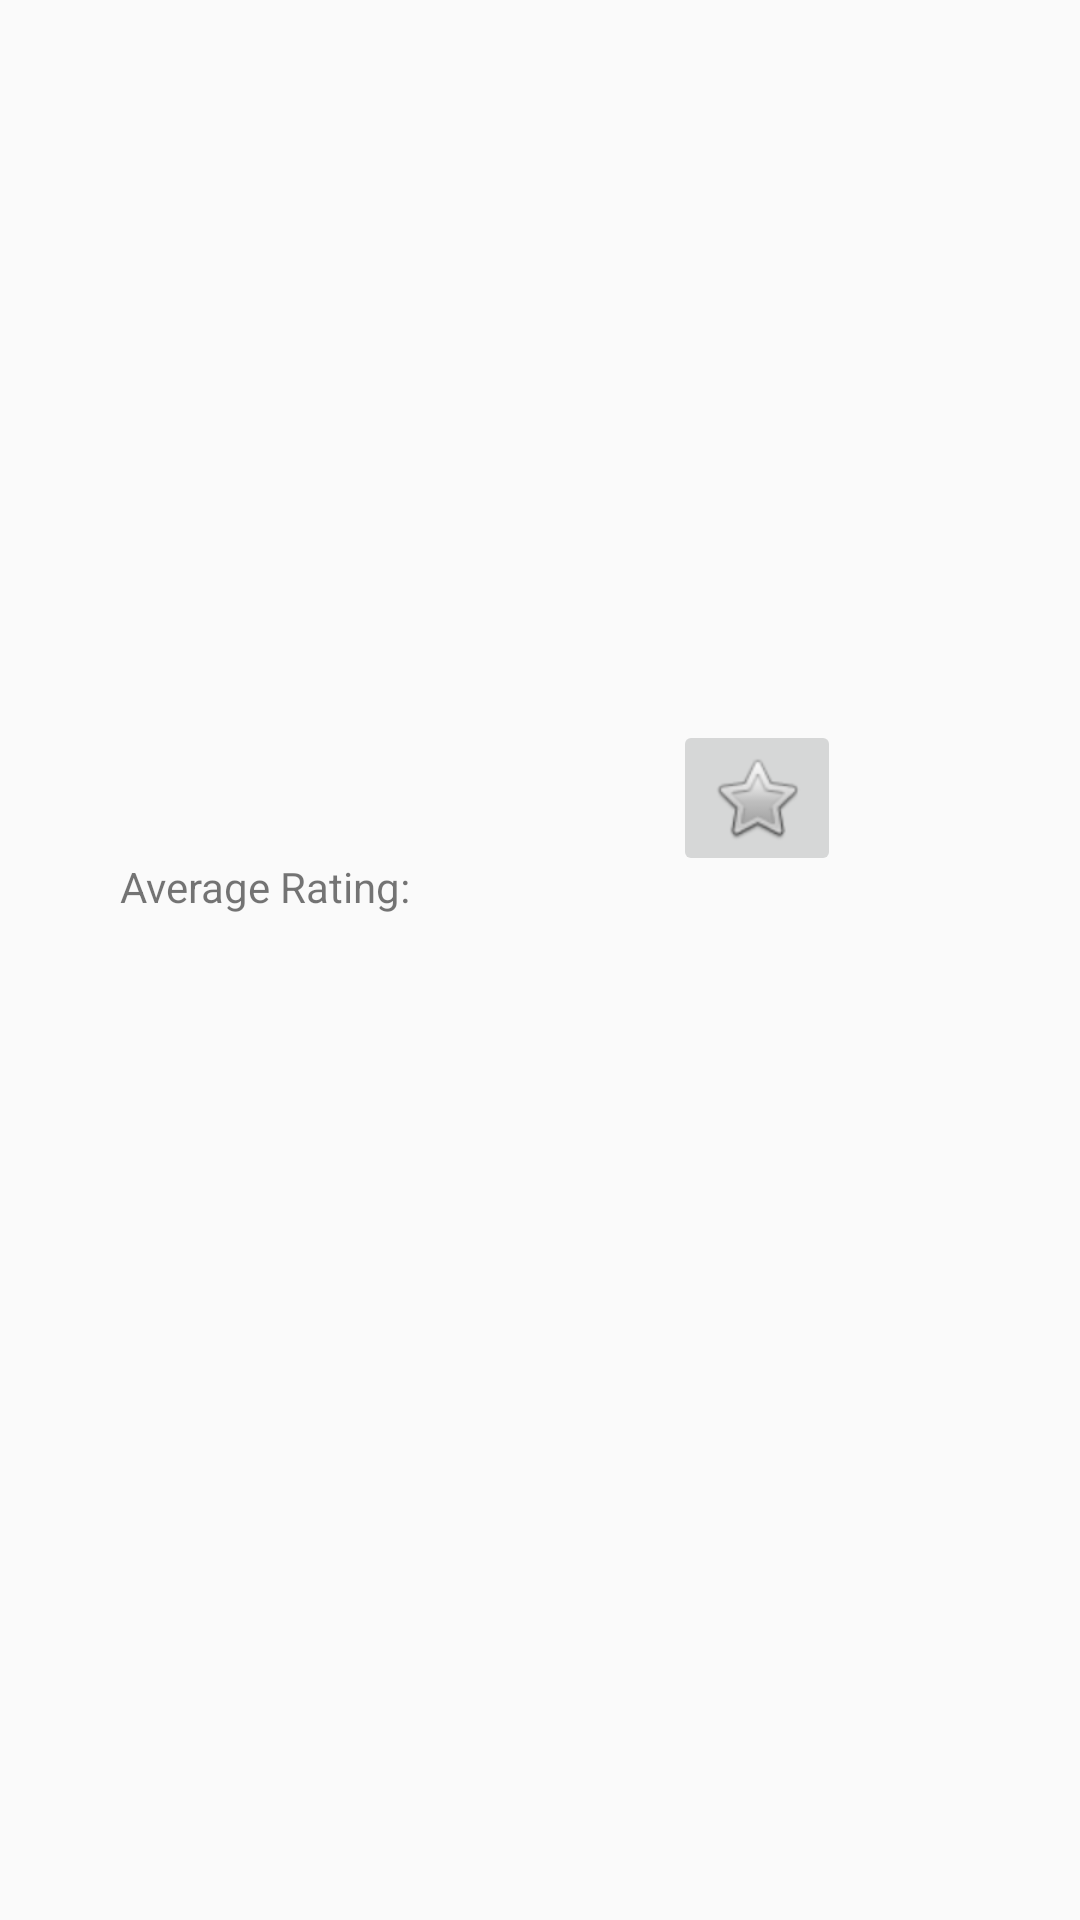

Where icons sit on this 1080x1920 app screen, as (x1, y1, x2, y2):
Favorite button to mark movie as favorite: (685, 738, 829, 858)
